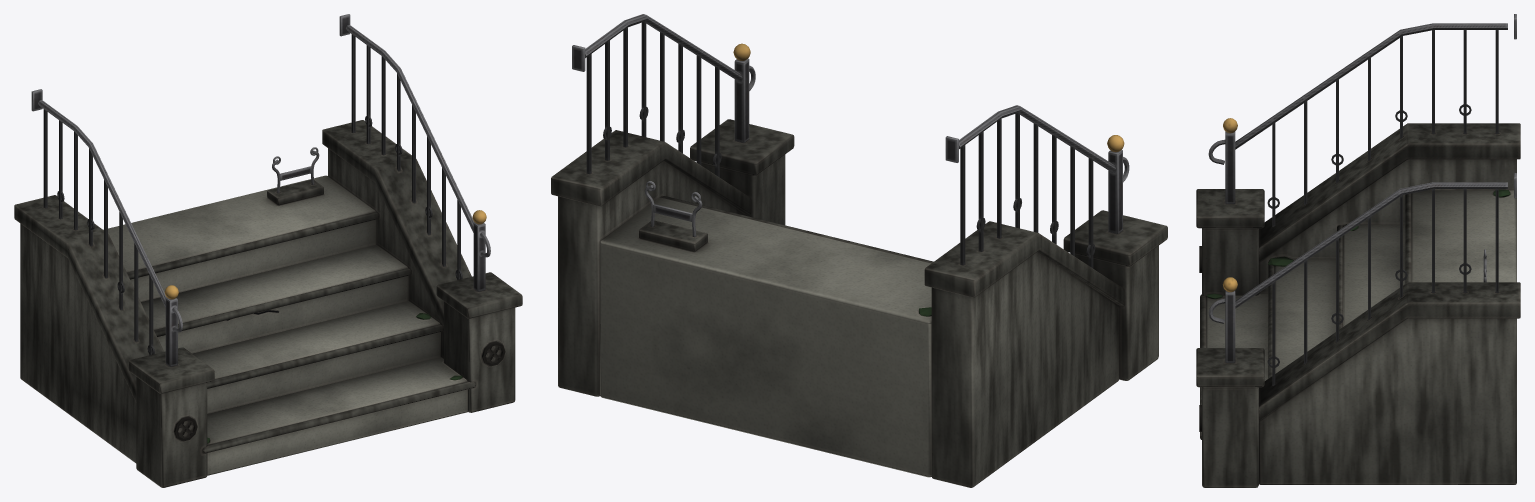
File: StoneStoop.fbx
The picture shows the model from 3 angles, left to right: view 1: azimuth 30°, elevation 25°; view 2: azimuth 150°, elevation 25°; view 3: azimuth 270°, elevation 25°; orthographic projection. The views are drawn at different scales.
Parts seen in each view (by area): view 1: StoneStoop; view 2: StoneStoop; view 3: StoneStoop.
Boxes of the visible parts, <box> form: StoneStoop: <box>14,14,522,487</box>; StoneStoop: <box>551,14,1167,487</box>; StoneStoop: <box>1196,14,1520,487</box>.
Size of the model in its own units: 584 by 438 by 427.
